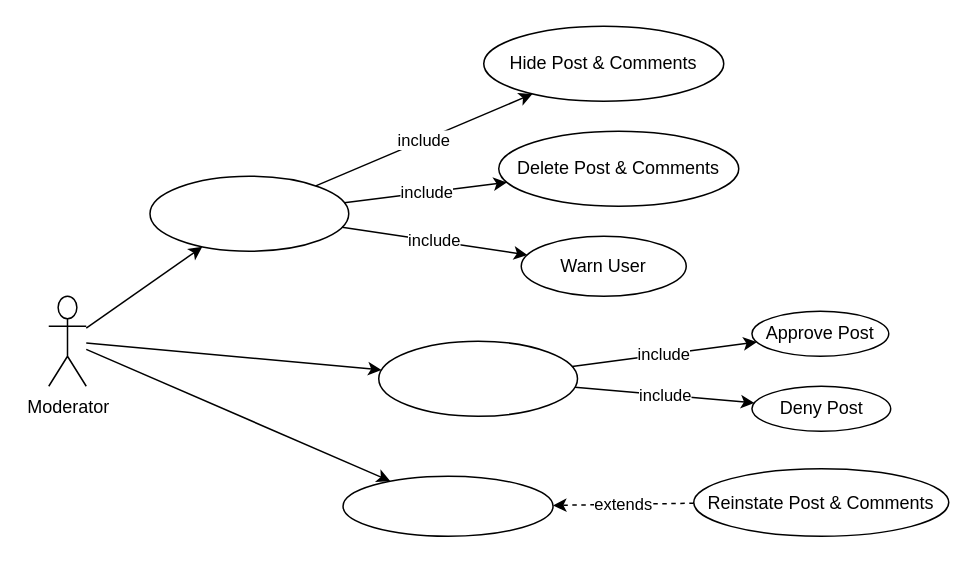
The diagram is 975 pixels wide and 563 high, and some of its shapes have lost their labels. The box of each missing label's shape, as (x1, y1, x2, y2) in pixels:
Moderation History: (342, 475, 553, 536)
Review Pending Post: (377, 340, 578, 416)
Review Reports: (148, 175, 349, 251)
